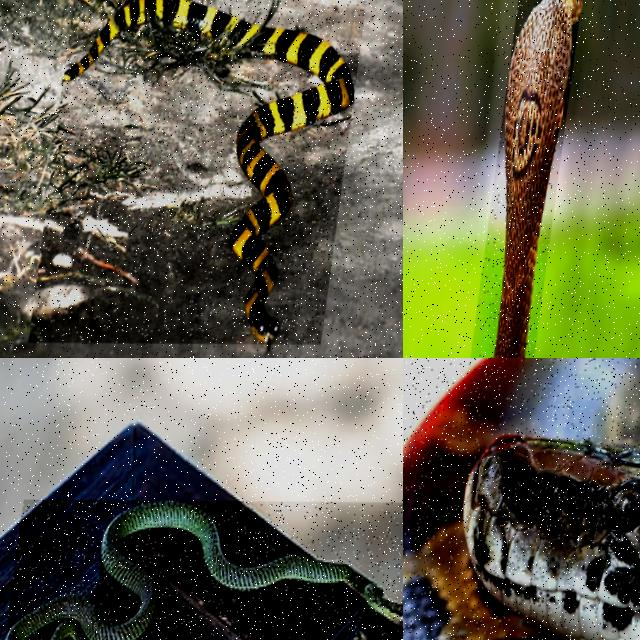Bungarus fasciatus: (63, 0, 353, 347)
Chrysopelea ornata: (5, 501, 402, 639)
Naja kaouthia: (493, 0, 582, 357)
Python bivittatus: (403, 358, 639, 639)
